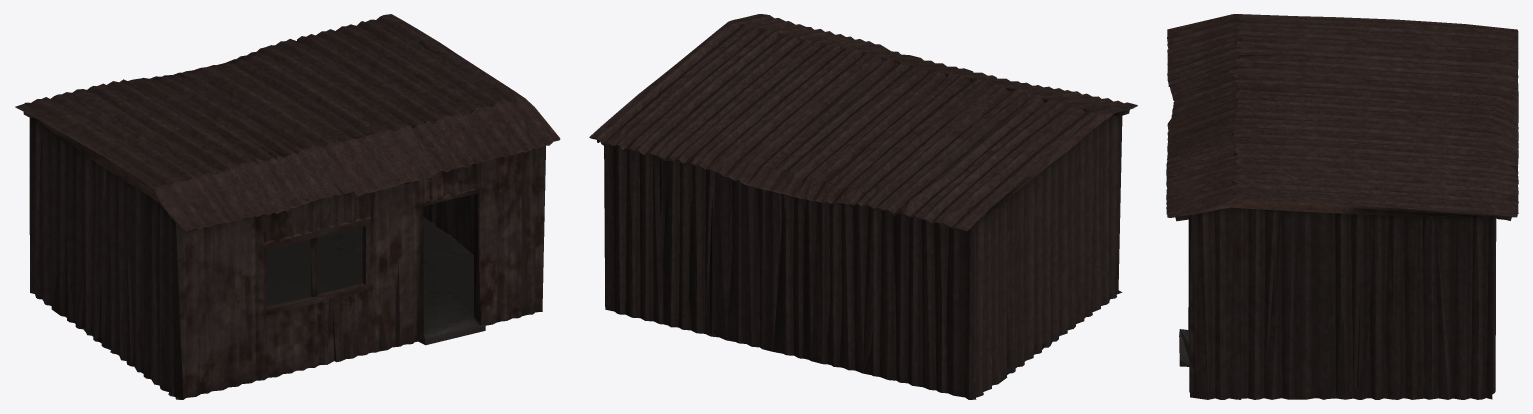
File: Meshy_AI_Rusty_Night_Shack_1111185318_texture.glb
3 renders of one model, left to right at view 1: azimuth 30°, elevation 25°; view 2: azimuth 150°, elevation 25°; view 3: azimuth 270°, elevation 25°, orthographic. The views are drawn at different scales.
Parts seen in each view (by area): view 1: output_unwrapped; view 2: output_unwrapped; view 3: output_unwrapped.
Boxes of the visible parts, box(x1,y1,x2,y2) form: output_unwrapped: box(15, 14, 560, 399); output_unwrapped: box(589, 14, 1137, 399); output_unwrapped: box(1166, 14, 1518, 399).
Bounding box in the file's own units: 1.9 × 0.9527 × 1.49.
1 material, 1 textured.
